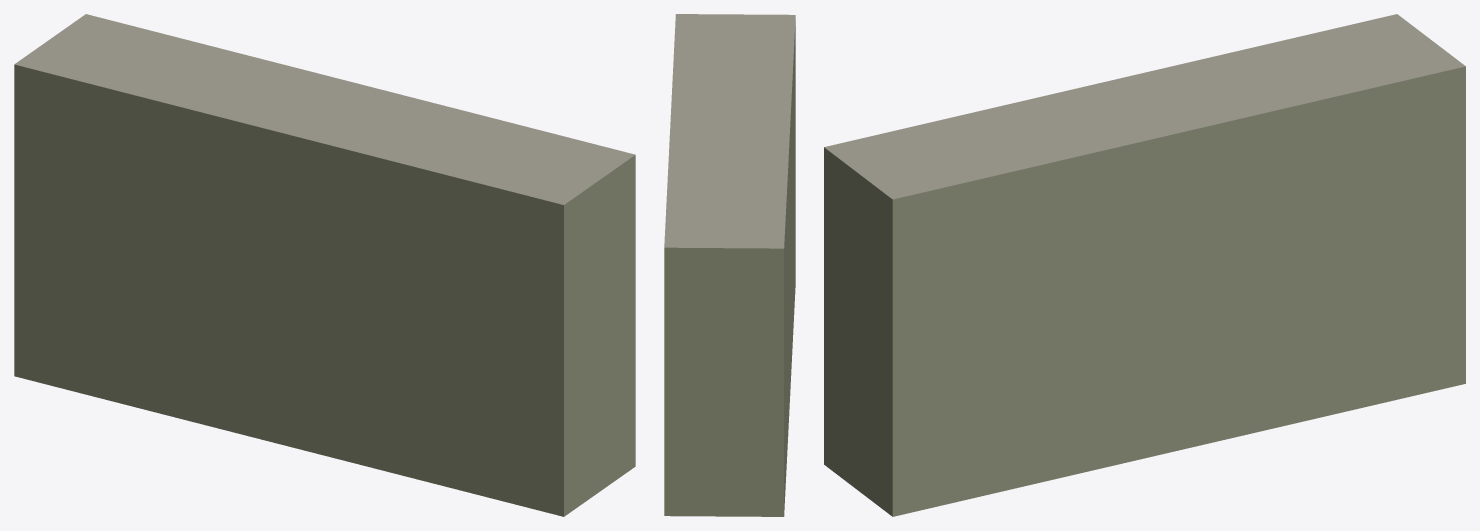
Rendered from nyc-1016036-0.glb.
3 renders of one model, left to right at view 1: azimuth 30°, elevation 25°; view 2: azimuth 150°, elevation 25°; view 3: azimuth 270°, elevation 25°, orthographic. The views are drawn at different scales.
Visible parts, largest first — view 1: nyc-1016036-0; view 2: nyc-1016036-0; view 3: nyc-1016036-0.
Part boxes in pixels (left/top/right/bottom): nyc-1016036-0: left=14, top=14, right=635, bottom=516; nyc-1016036-0: left=664, top=14, right=795, bottom=516; nyc-1016036-0: left=824, top=14, right=1465, bottom=516.
Size of the model in its own units: 22.17 by 17.68 by 32.41.
